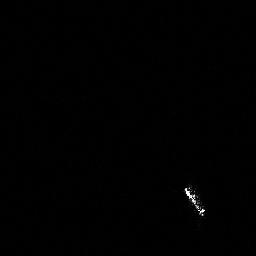ship: (183, 183, 208, 219)
